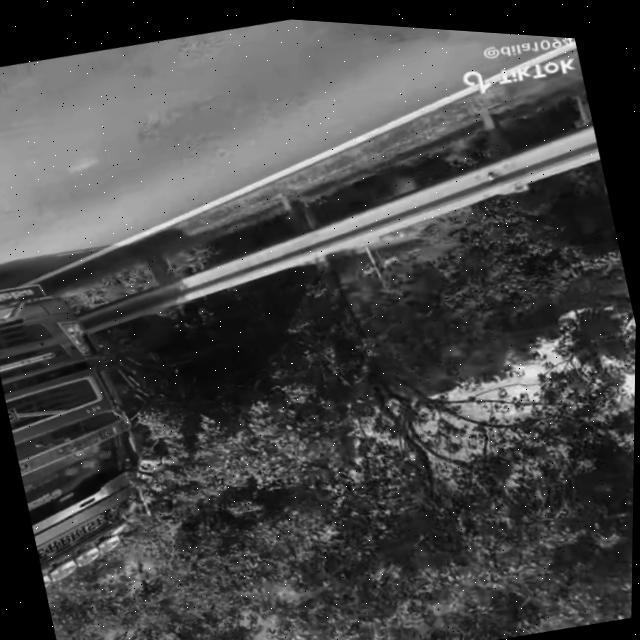truck: (0, 265, 159, 591)
